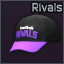Rivals 2020 cap: (0, 0, 64, 64)
